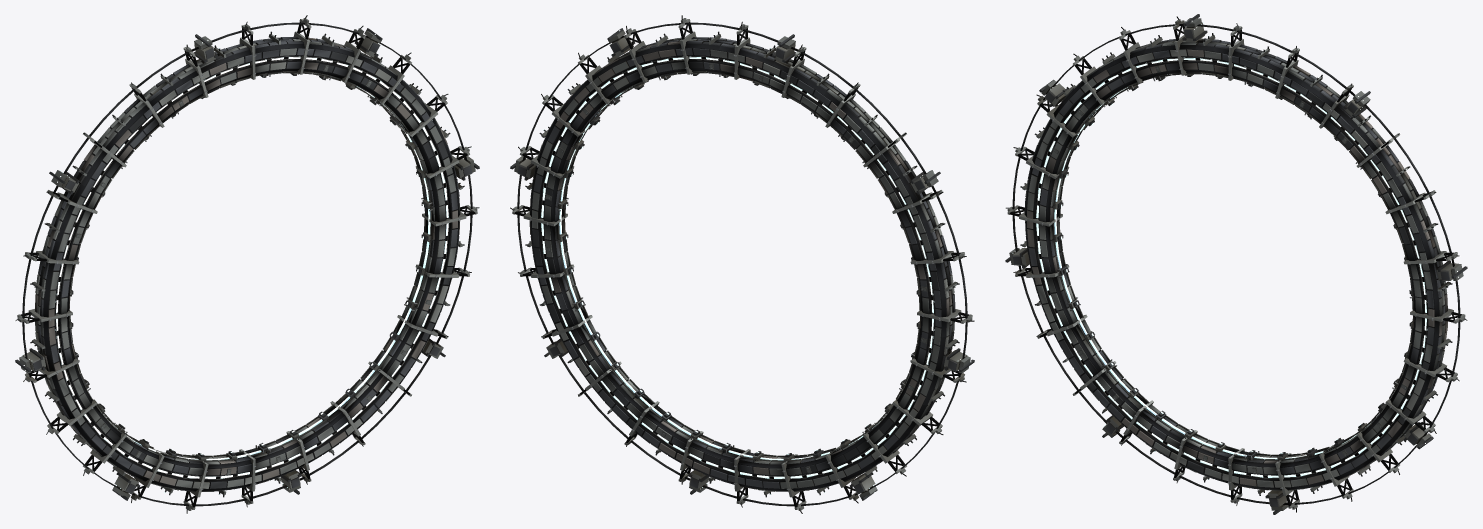
Rendered from ring.glb.
3 views of the same model, side by side, from view 1: azimuth 30°, elevation 25°; view 2: azimuth 150°, elevation 25°; view 3: azimuth 330°, elevation 25° (orthographic).
Parts seen in each view (by area): view 1: body; view 2: body; view 3: body.
Boxes of the visible parts, bbox=[...] form: body: bbox=[14, 14, 480, 514]; body: bbox=[509, 14, 975, 514]; body: bbox=[1004, 14, 1468, 514].
Bounding box in the file's own units: 2.37 × 2.37 × 0.133.
